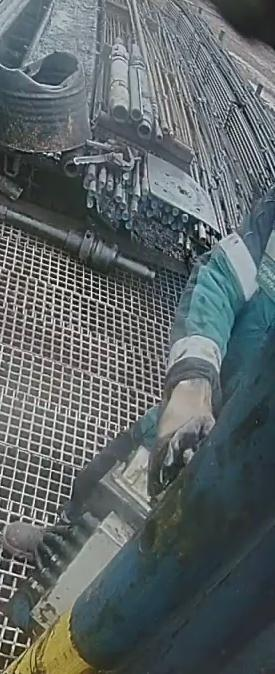gloves: (150, 353, 220, 489)
vest: (174, 180, 275, 382)
